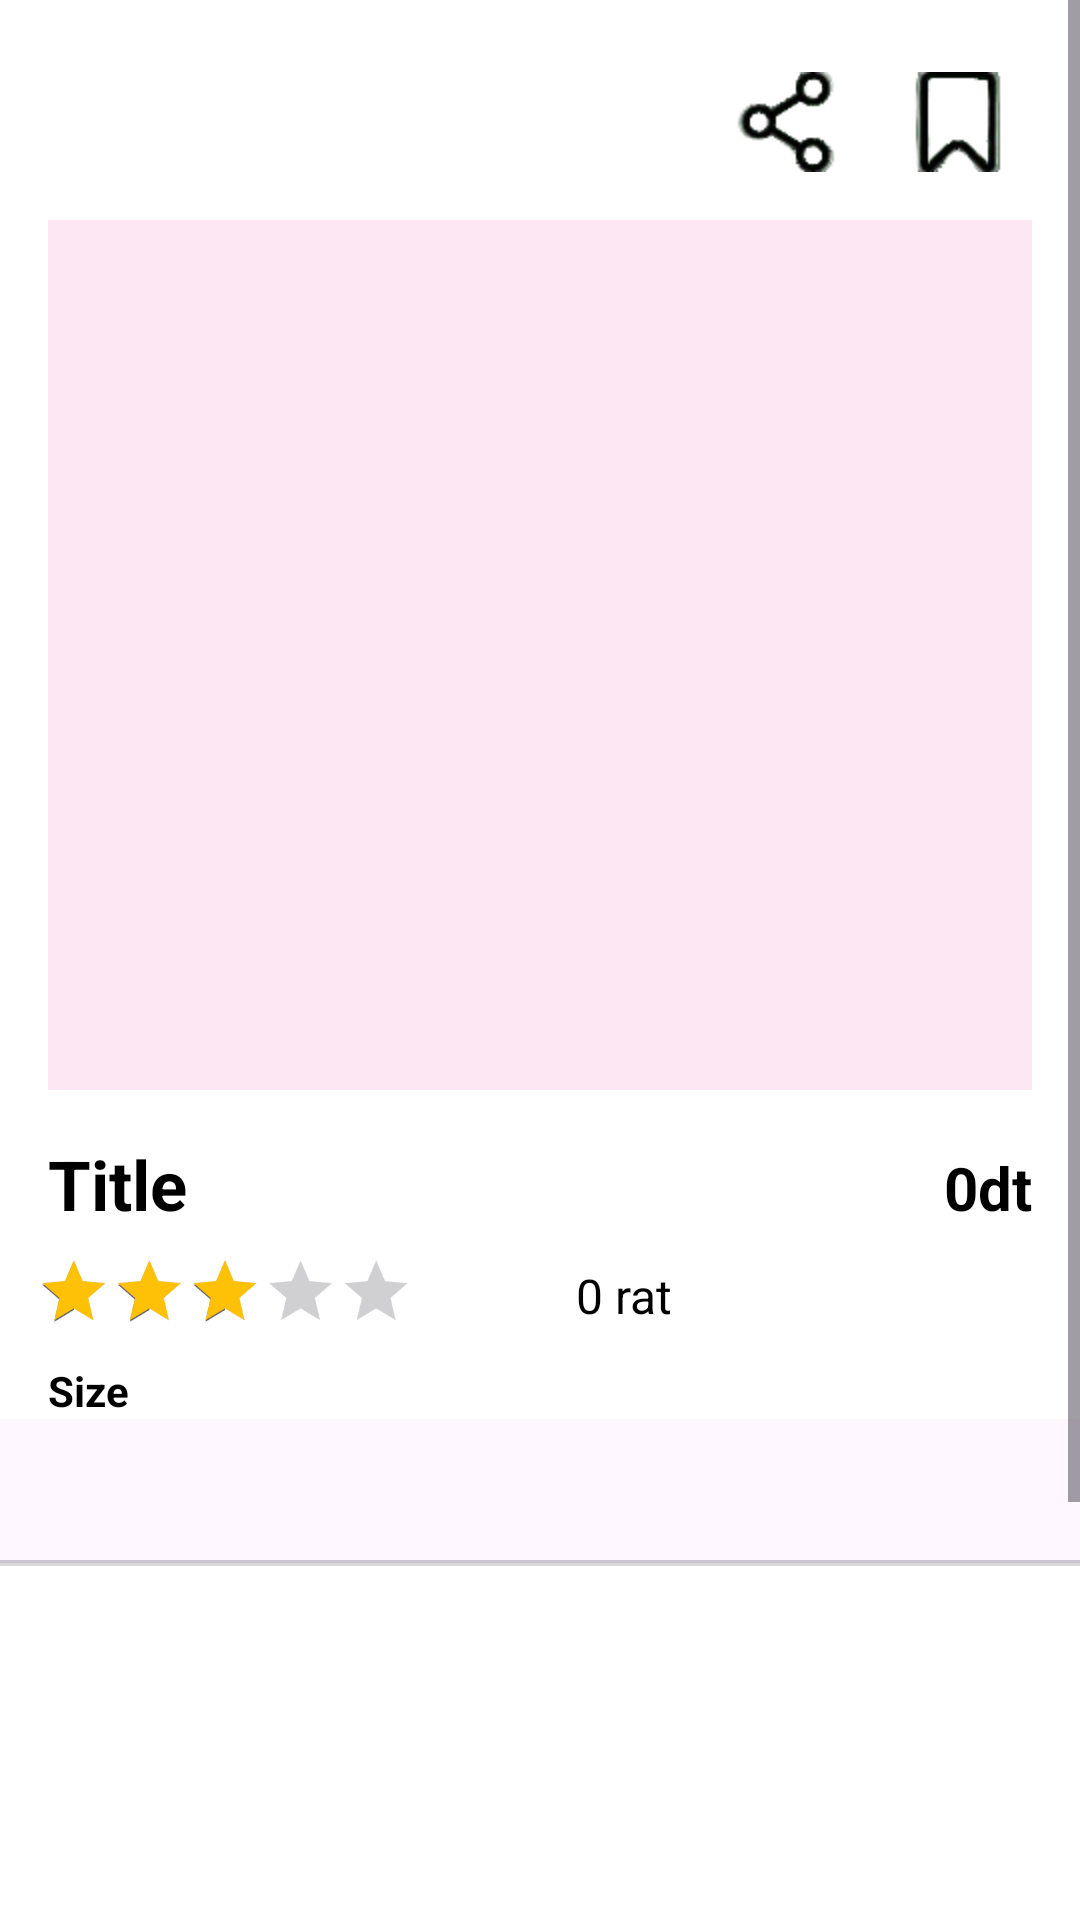

Where icons sit on this 1080×1920 app screen, as (x1, y1, x2, y2):
saved: (915, 72, 1001, 172)
share: (738, 72, 834, 172)
